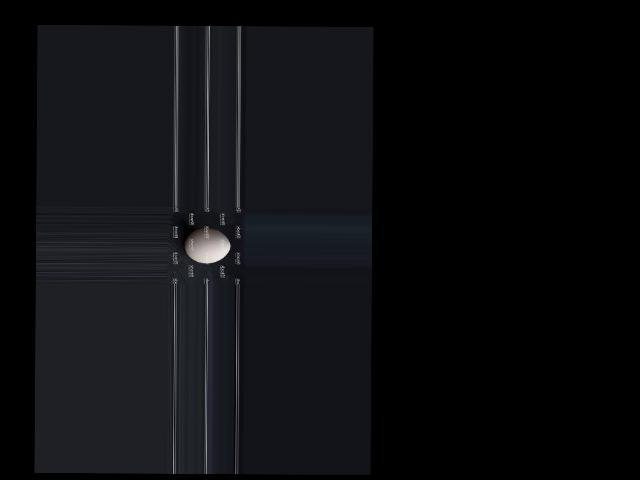egg: (183, 227, 230, 263)
